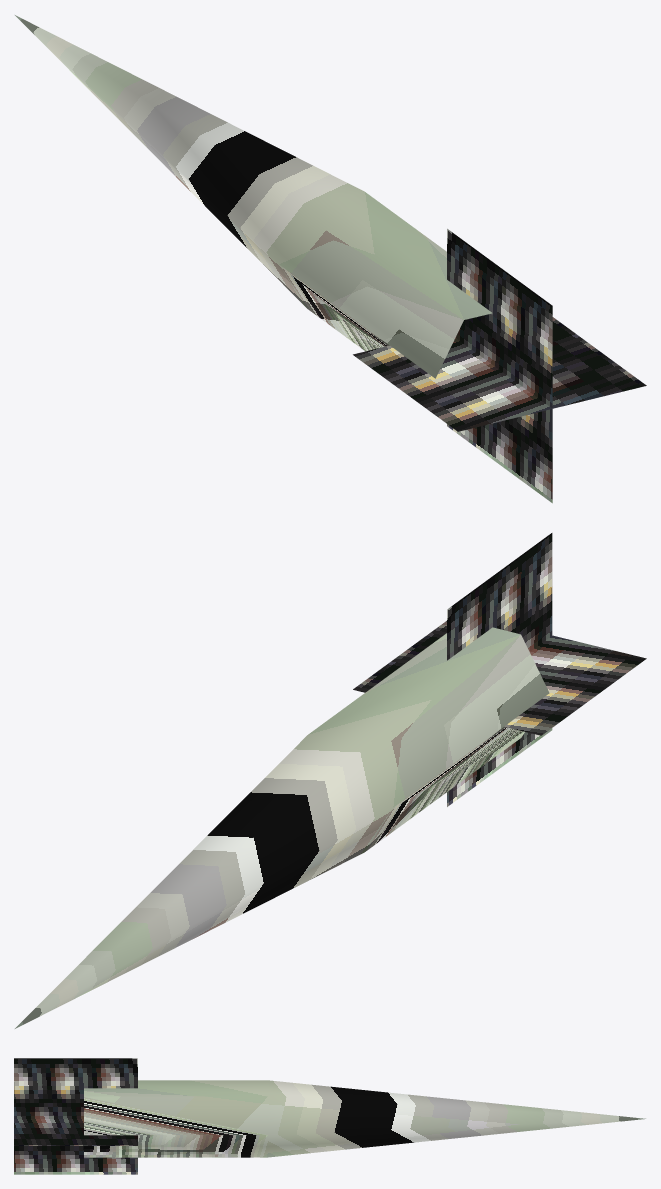
The model's file is missile1_cmp.gltf.
3 views of the same model, one above another, from view 1: azimuth 30°, elevation 25°; view 2: azimuth 150°, elevation 25°; view 3: azimuth 270°, elevation 25° (orthographic). The views are drawn at different scales.
Visible parts, largest first — view 1: Root; view 2: Root; view 3: Root.
Boxes of the visible parts, x1,y1,x2,y2 form: Root: (15, 15, 646, 503); Root: (15, 533, 646, 1028); Root: (14, 1058, 645, 1174).
Bounding box in the file's own units: 0.8208 × 0.8208 × 4.05.
Materials: 2 (2 with a texture image).
